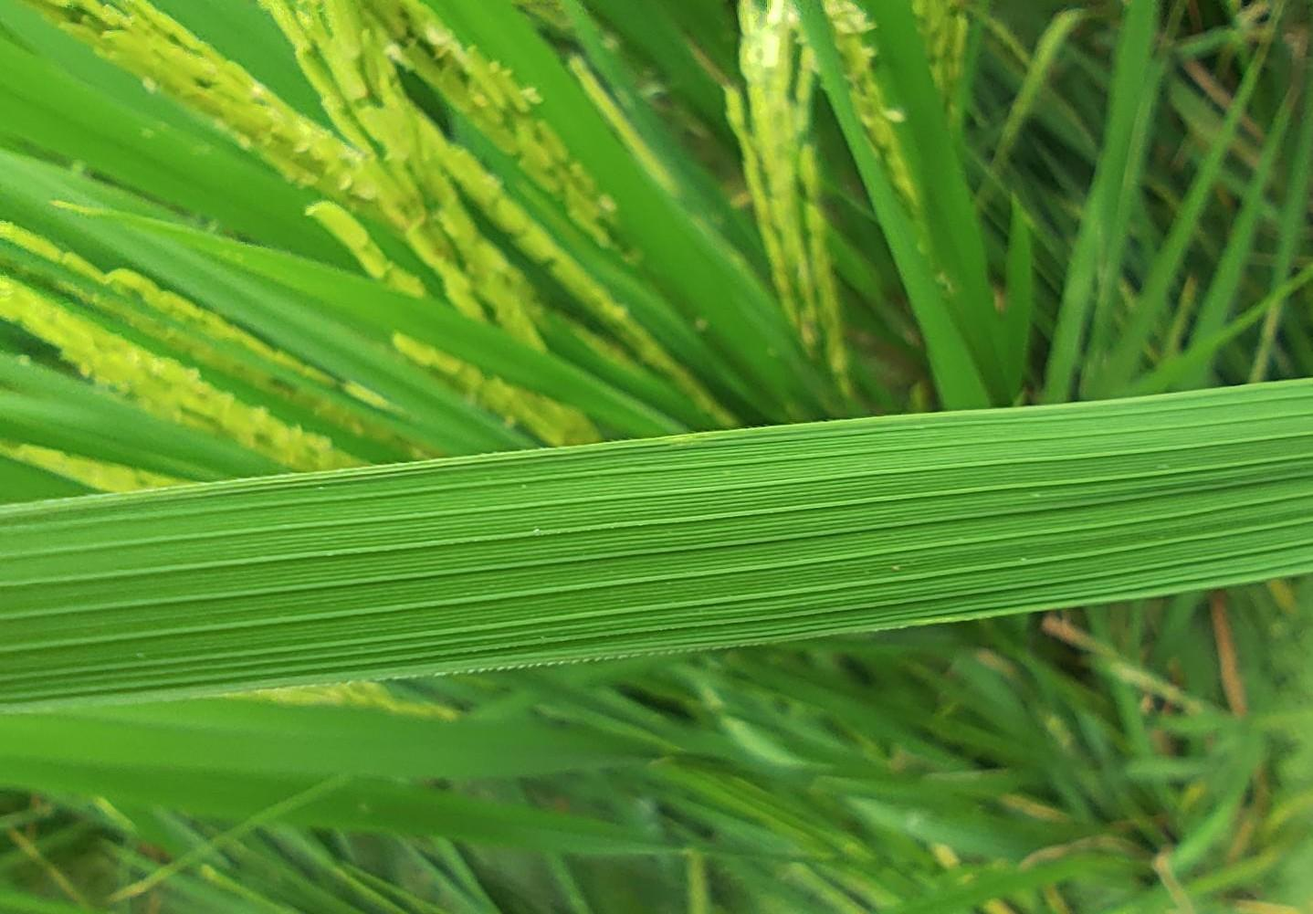Healthy: (0, 379, 1312, 712)
